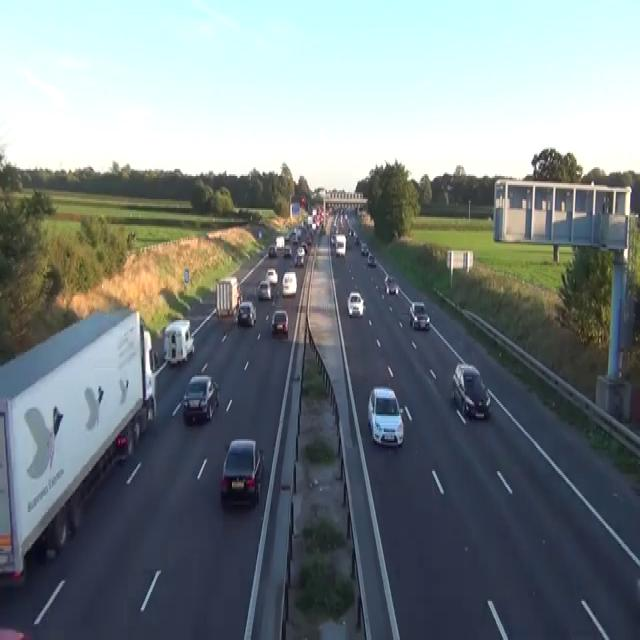Car: (219, 437, 263, 505), (452, 362, 491, 420), (367, 386, 404, 446), (182, 373, 219, 425), (408, 300, 430, 330), (237, 300, 256, 326), (281, 270, 297, 297), (347, 292, 364, 316), (271, 310, 288, 334), (0, 626, 32, 638), (115, 434, 128, 462), (257, 279, 271, 301), (384, 274, 398, 295), (413, 311, 429, 329), (265, 266, 278, 284), (294, 247, 304, 267), (268, 244, 277, 258), (367, 252, 376, 266), (360, 242, 369, 256), (283, 245, 292, 258), (330, 233, 336, 245), (300, 242, 307, 252), (257, 228, 262, 240), (348, 226, 354, 236), (292, 234, 298, 243), (311, 220, 316, 230), (354, 233, 359, 243)
Truck: (0, 307, 157, 588), (163, 318, 194, 364), (215, 276, 241, 316), (335, 233, 346, 256)
